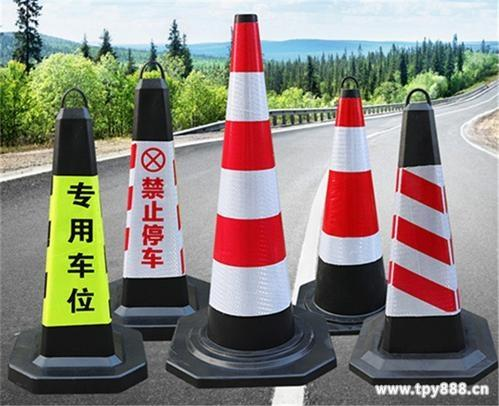cone_barrel: (199, 18, 296, 362), (369, 95, 477, 375), (24, 98, 130, 381), (110, 75, 197, 331), (301, 88, 390, 323)
